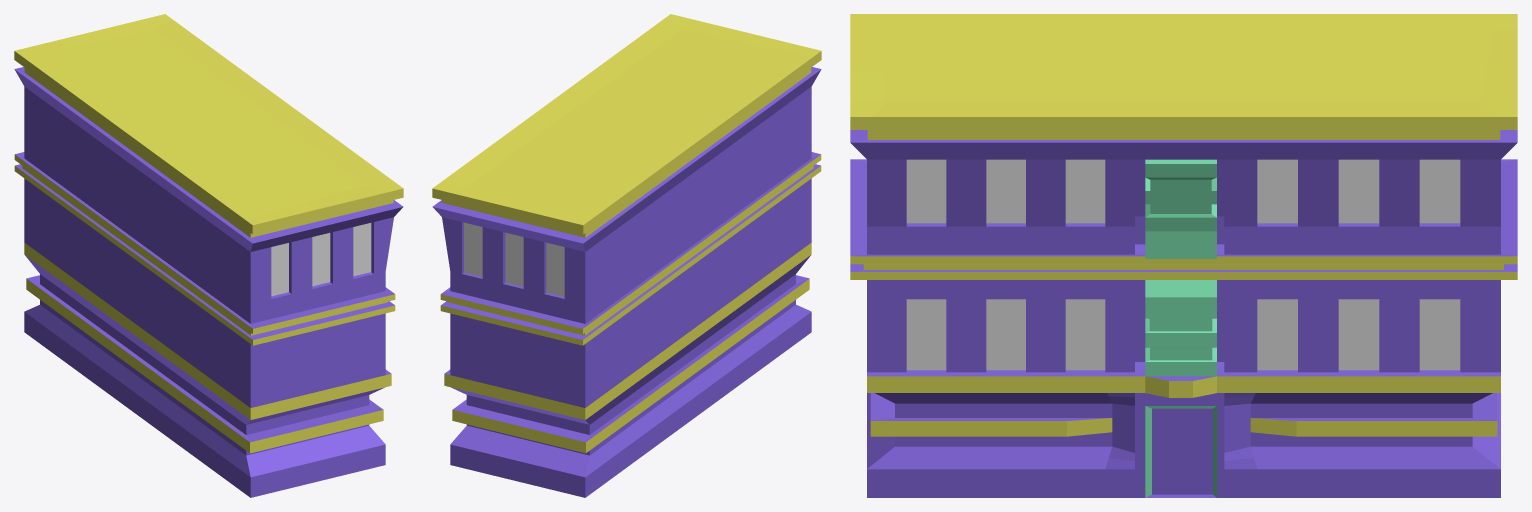
The model's file is FBX_UD_Wide.fbx.
3 renders of one model, left to right at view 1: azimuth 30°, elevation 25°; view 2: azimuth 150°, elevation 25°; view 3: azimuth 270°, elevation 25°, orthographic. The views are drawn at different scales.
Parts seen in each view (by area): view 1: FBX_UC_mBuilding_4; view 2: FBX_UC_mBuilding_4; view 3: FBX_UC_mBuilding_4.
Part boxes in pixels (left/top/right/bottom): FBX_UC_mBuilding_4: left=14, top=14, right=403, bottom=497; FBX_UC_mBuilding_4: left=432, top=14, right=821, bottom=497; FBX_UC_mBuilding_4: left=850, top=14, right=1517, bottom=497.
Bounding box in the file's own units: 1194 × 2067 × 3215.
